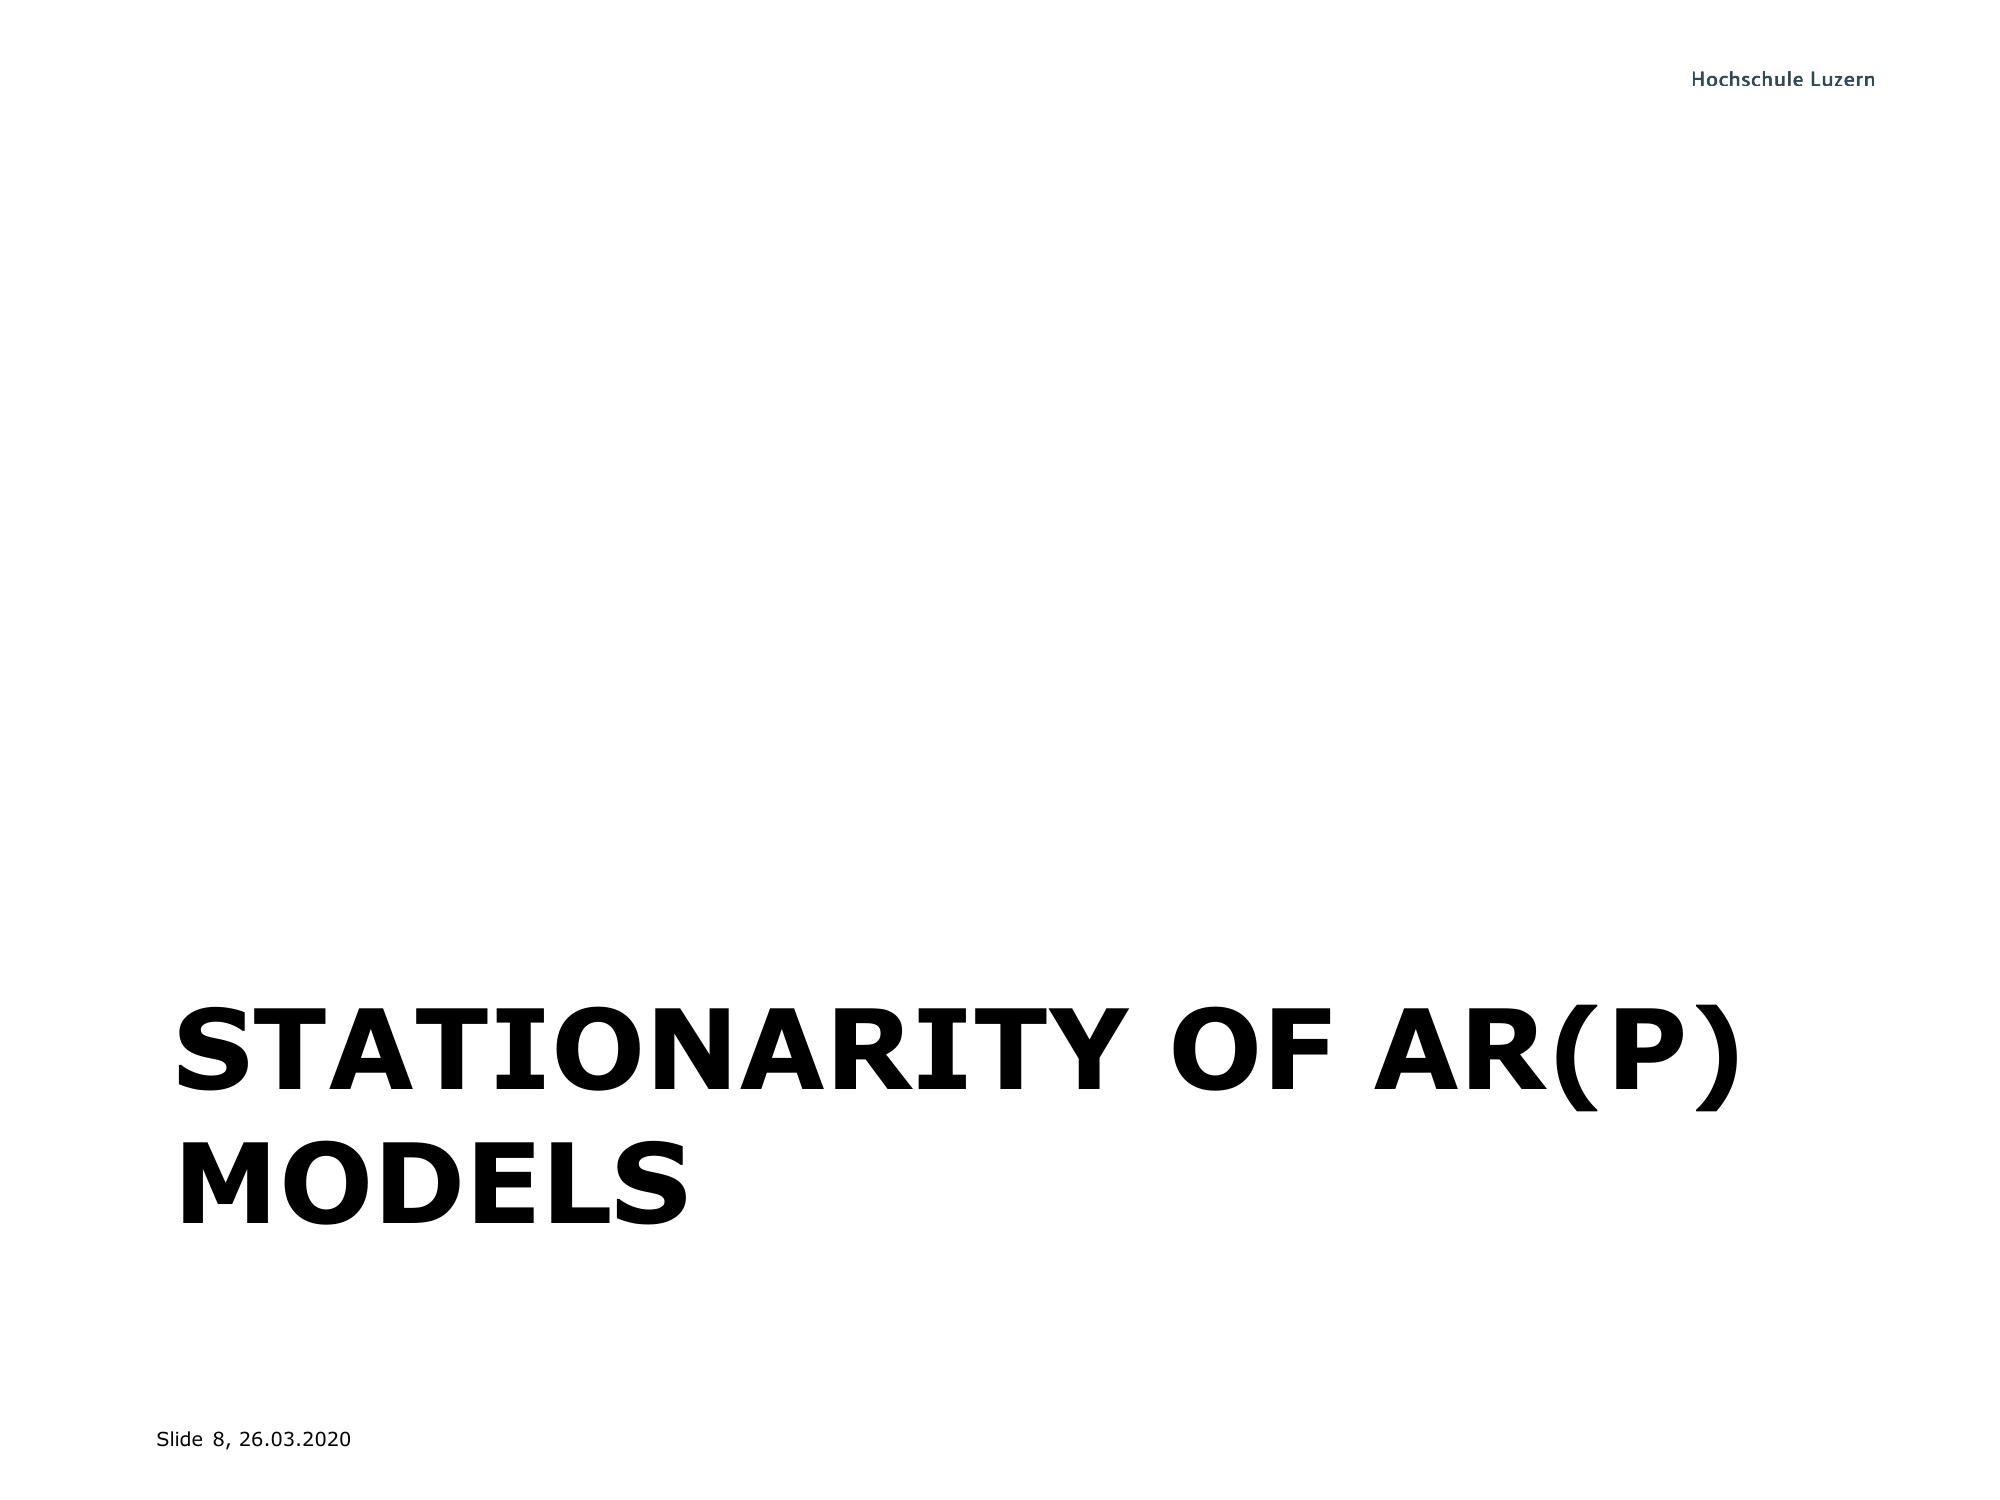Title: (150, 988, 1753, 1234)
